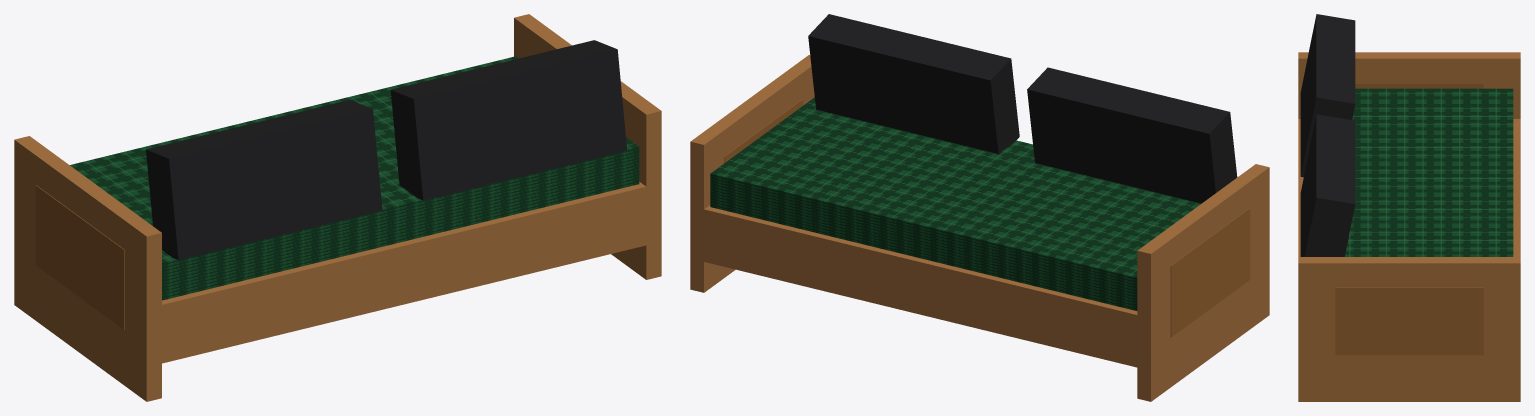
File: daybed.glb
3 views of the same model, side by side, from view 1: azimuth 30°, elevation 25°; view 2: azimuth 150°, elevation 25°; view 3: azimuth 270°, elevation 25° (orthographic). The views are drawn at different scales.
Parts seen in each view (by area): view 1: daybed; view 2: daybed; view 3: daybed.
Part boxes in pixels (x1,y1,x2,y2): daybed: (14, 14, 661, 401); daybed: (690, 14, 1269, 401); daybed: (1298, 14, 1520, 401).
Bounding box in the file's own units: 2.02 × 0.8514 × 0.9.
Materials: 4 (1 with a texture image).
